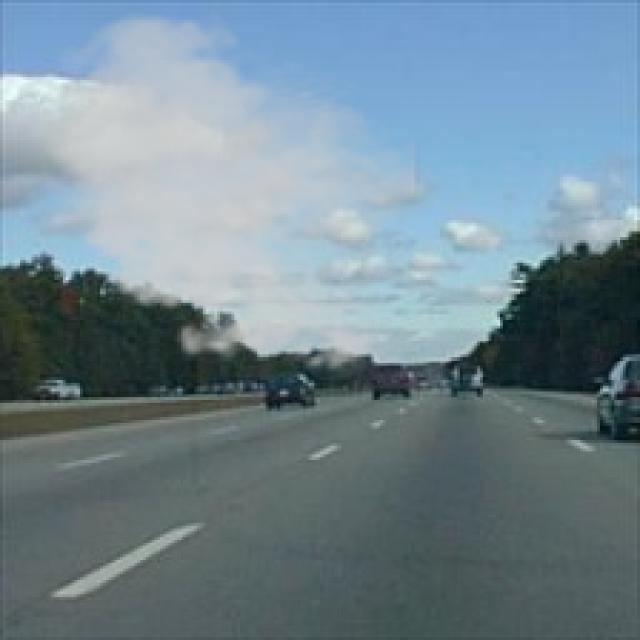Smoke: (28, 6, 420, 383)
